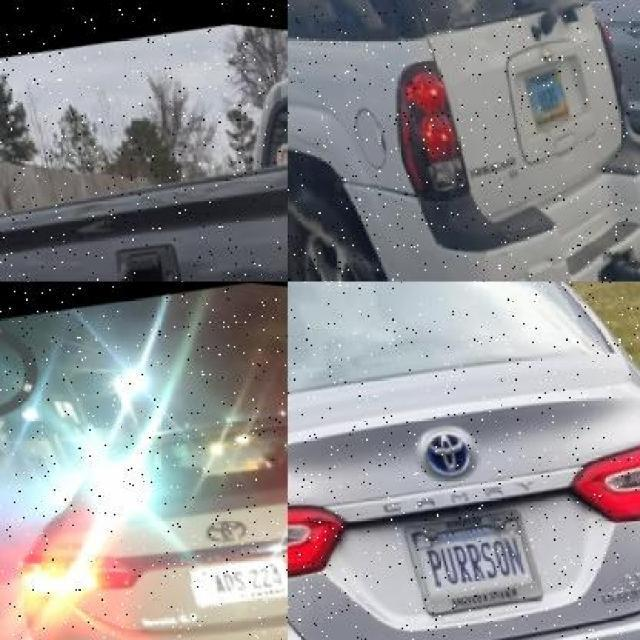LicensePlate: (399, 499, 542, 609), (172, 533, 288, 622), (519, 51, 569, 120)
